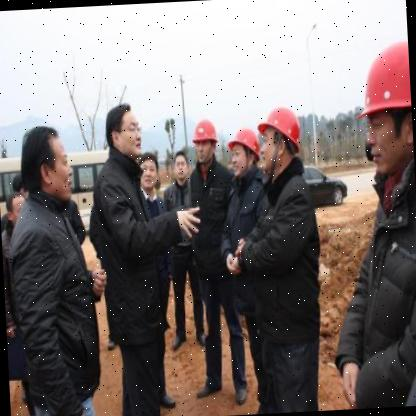capacete: (353, 38, 411, 127), (257, 101, 302, 156), (227, 124, 261, 162), (191, 115, 219, 150)
